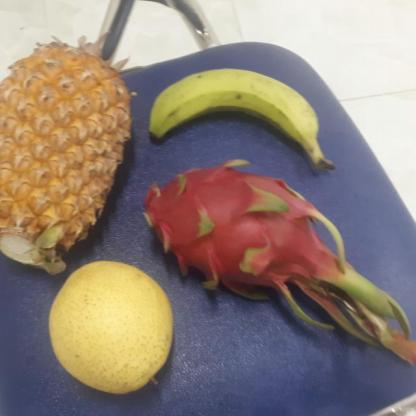banana: (143, 68, 322, 170)
pear: (42, 260, 174, 392)
pineapple: (0, 44, 122, 268)
pitaya: (125, 162, 332, 297)
